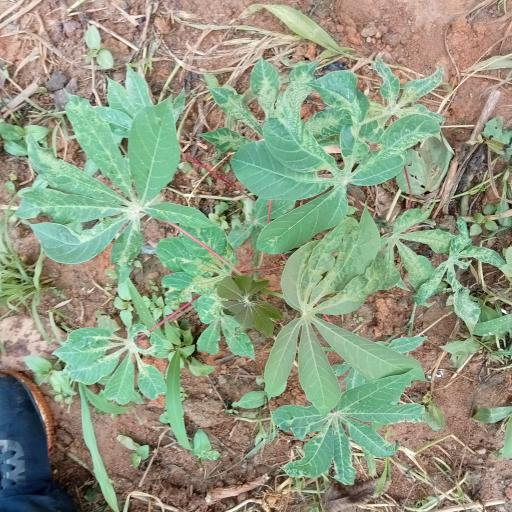Cassava_Mosaic: (226, 71, 428, 237), (23, 85, 184, 256), (271, 247, 409, 385)
